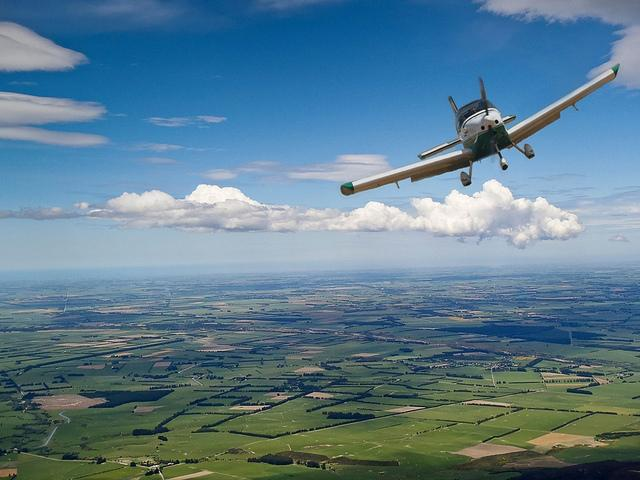airplane: (322, 60, 622, 203)
